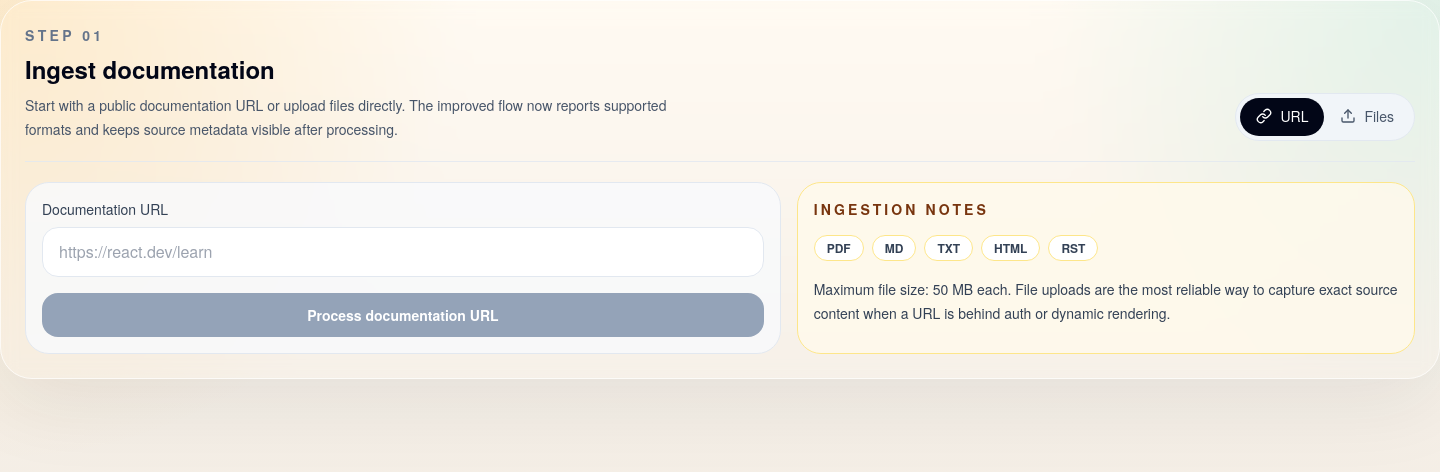
it: DocumentUpload Component › URL Processing › should show error on URL processing failure
Type "https://invalid.com" into the field labelled "Documentation URL" at x=403, y=252, box [42,227,764,277]
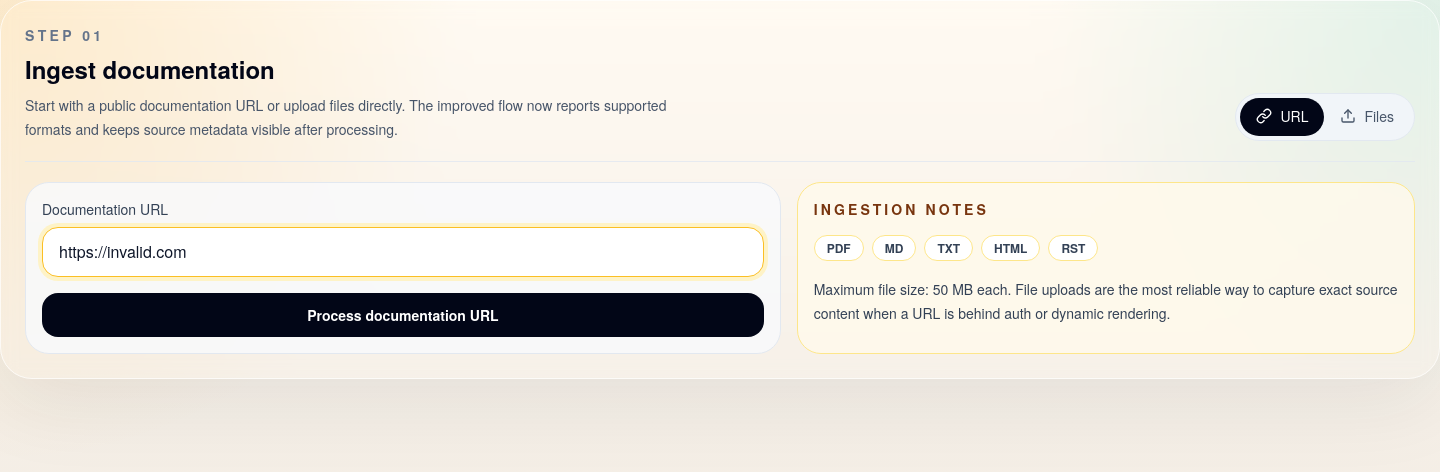
Click the button "Process documentation URL" at x=403, y=315, box [42,293,764,337]
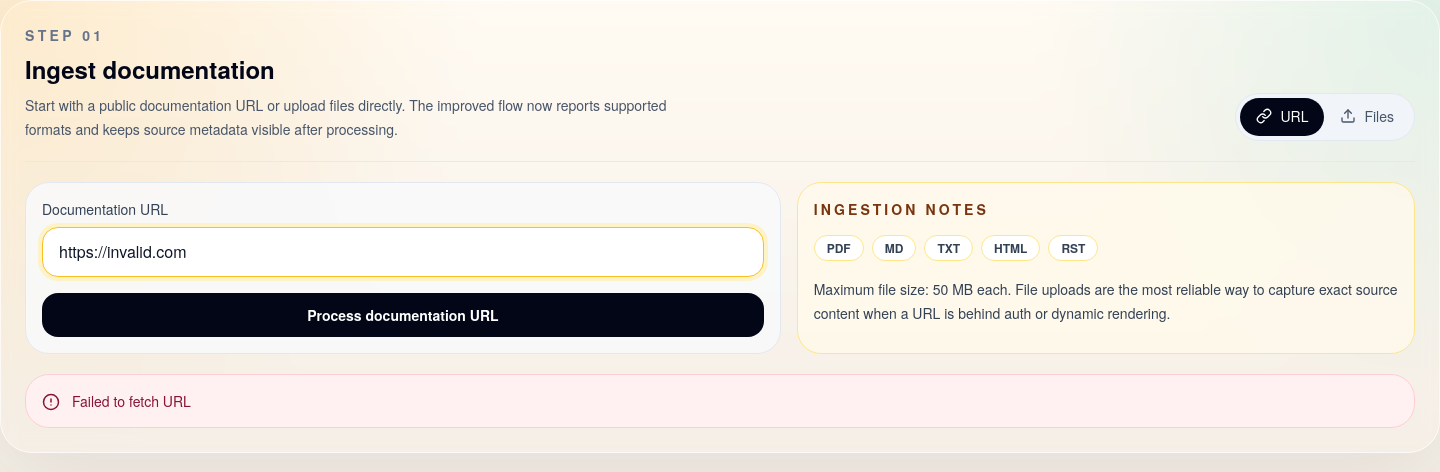
Expected: the text "Failed to fetch URL" is shown, [72,391,191,411]
